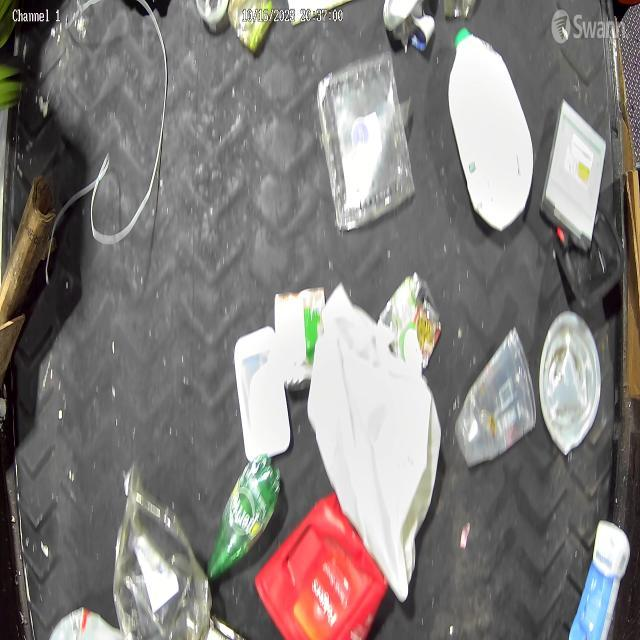can: (384, 267, 446, 383), (272, 285, 333, 393)
milk_jug: (308, 274, 442, 601), (448, 13, 536, 236)
non_white_jug: (255, 487, 389, 640)
plastic_bottle: (202, 448, 282, 596)
